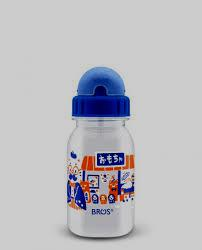Plastic: (64, 64, 139, 240)
